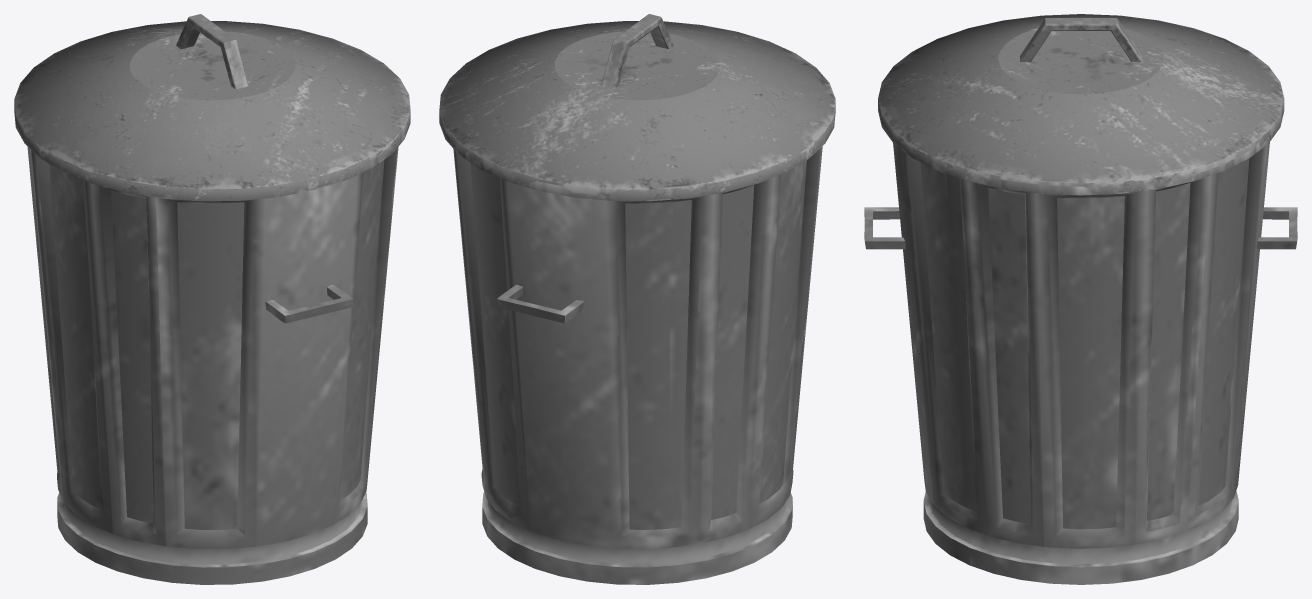
File: Lixo.fbx
3 renders of one model, left to right at view 1: azimuth 30°, elevation 25°; view 2: azimuth 150°, elevation 25°; view 3: azimuth 270°, elevation 25°, orthographic.
Visible parts, largest first — view 1: Cube.001, Cube; view 2: Cube.001, Cube; view 3: Cube.001, Cube.
Part boxes in pixels (left/top/right/bottom): Cube.001: left=27, top=146, right=398, bottom=584; Cube: left=14, top=14, right=410, bottom=201; Cube.001: left=453, top=146, right=822, bottom=584; Cube: left=439, top=14, right=835, bottom=201; Cube.001: left=864, top=142, right=1297, bottom=584; Cube: left=878, top=14, right=1284, bottom=195.
Size of the model in its own units: 151 by 207 by 163.
